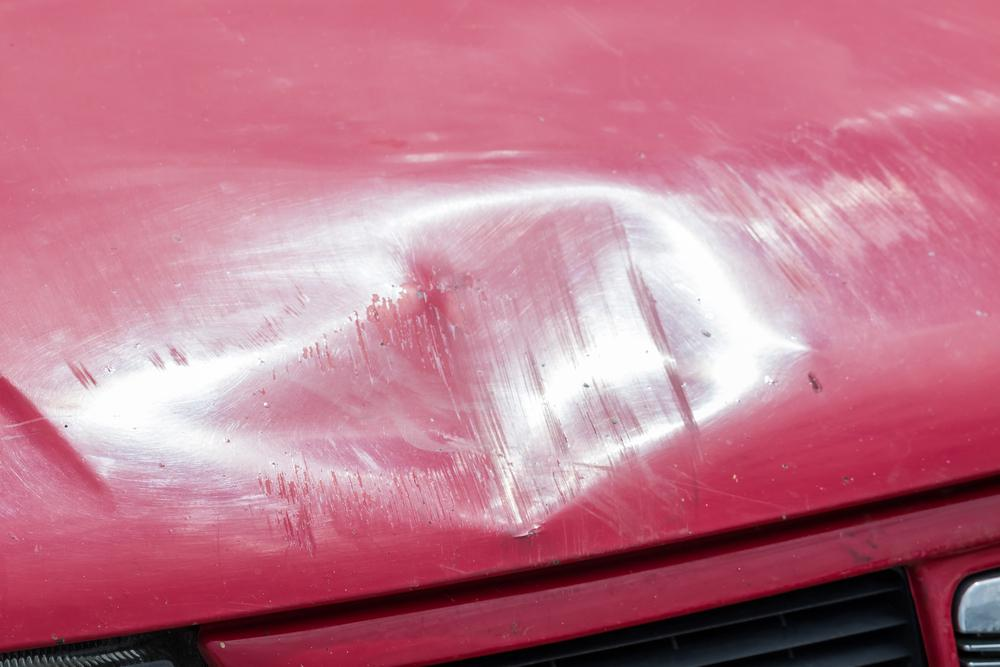dent: (103, 186, 783, 533)
